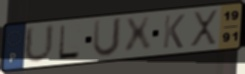K: (161, 13, 186, 50)
L: (56, 24, 82, 61)
U: (23, 22, 57, 66), (91, 16, 125, 59)
X: (188, 8, 220, 48), (123, 15, 154, 56)
